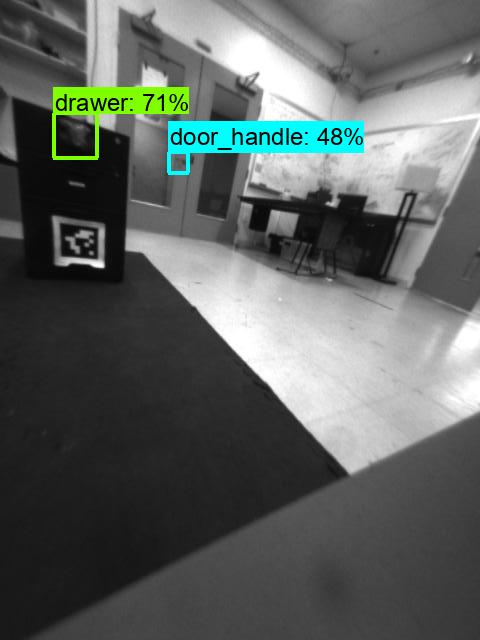door_handle: (169, 155, 189, 169)
drawer: (44, 115, 102, 161)
